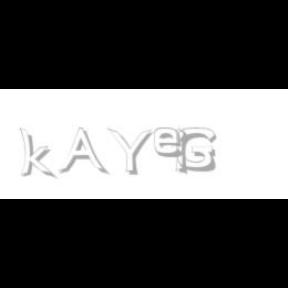A: (58, 128, 106, 176)
G: (176, 128, 216, 172)
Y: (107, 128, 153, 176)
e: (154, 128, 188, 158)
i: (175, 128, 191, 176)
k: (19, 128, 57, 180)
